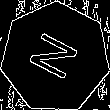N_SE: (25, 29, 86, 86)
